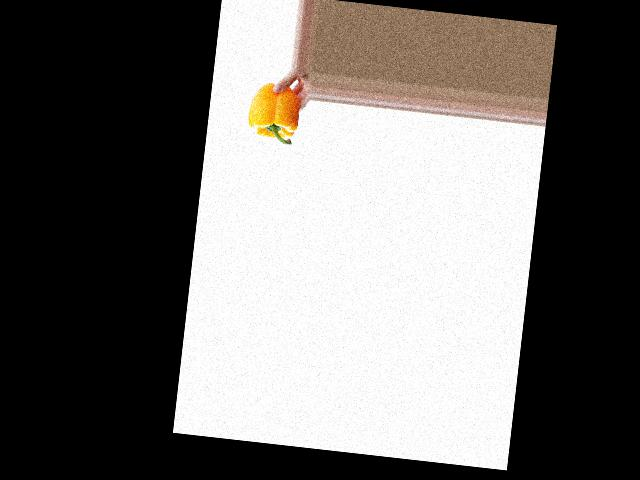bell_pepper: (244, 79, 302, 148)
